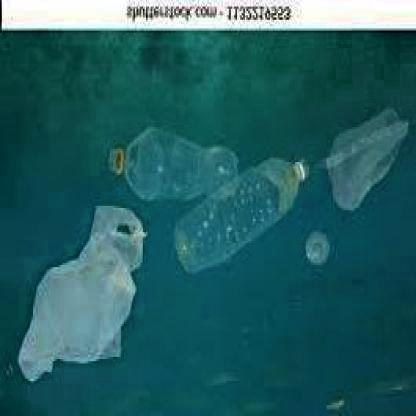pbag: (3, 199, 154, 383), (320, 100, 414, 222)
pbottle: (164, 151, 310, 272), (105, 118, 247, 204)
